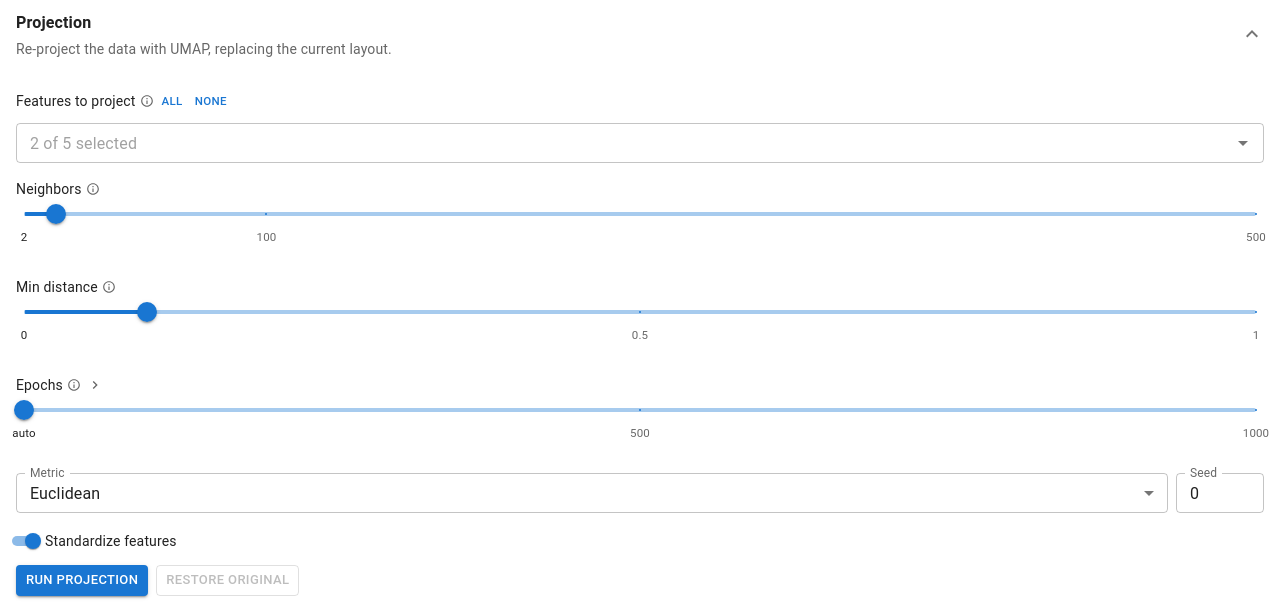
ProjectionTabPanel › supports All / None quick selection
Click the button "None".
click(211, 101)  # box [191,87,231,115]
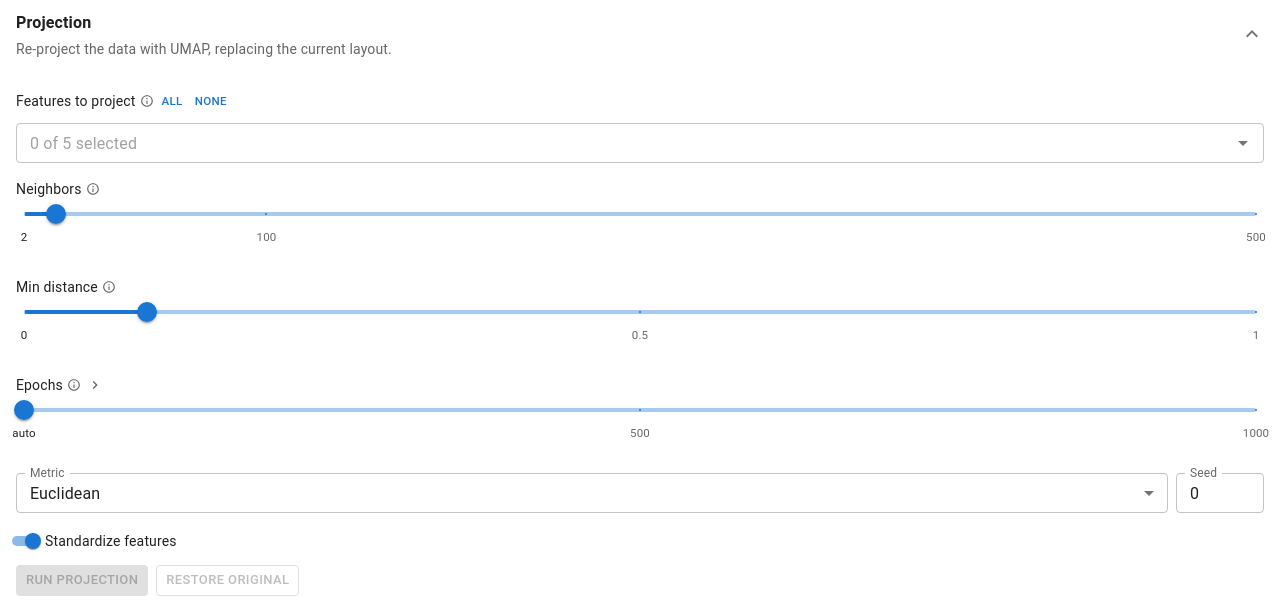
Check: the dropdown with placeholder "0 of 5 selected" is shown, box [22,129,1225,157]
Check: the button "Run projection" is disabled, box [16,565,148,596]
Click the button "All".
click(172, 101)  # box [158,87,187,115]
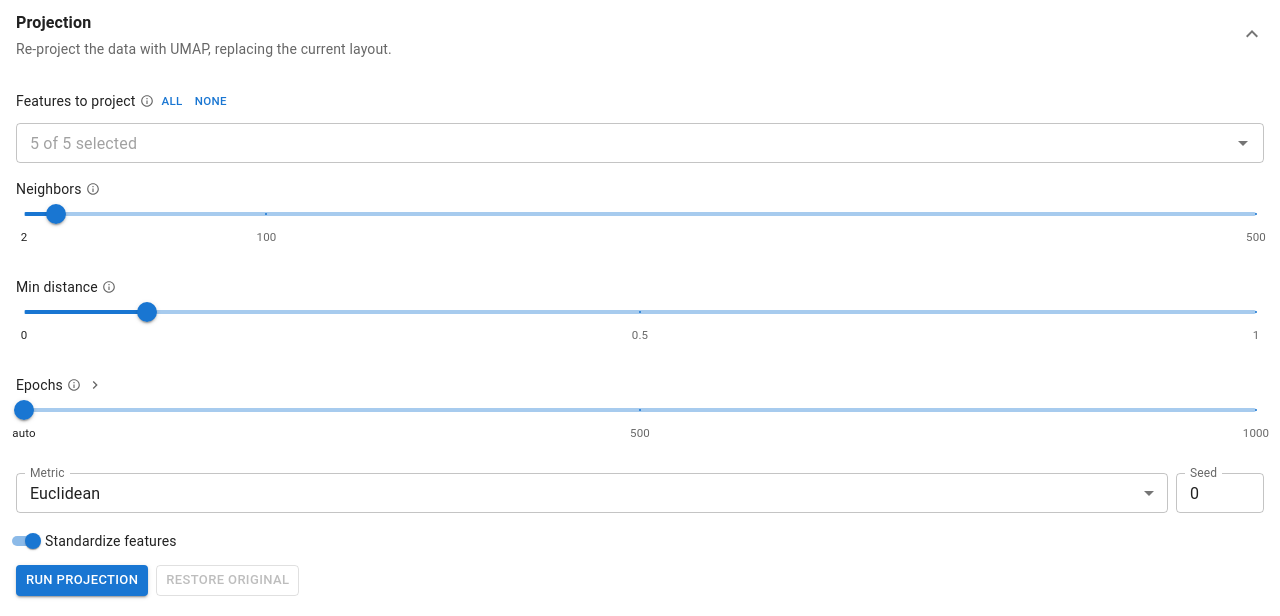
Check: the dropdown with placeholder "5 of 5 selected" is shown, box [22,129,1199,157]
